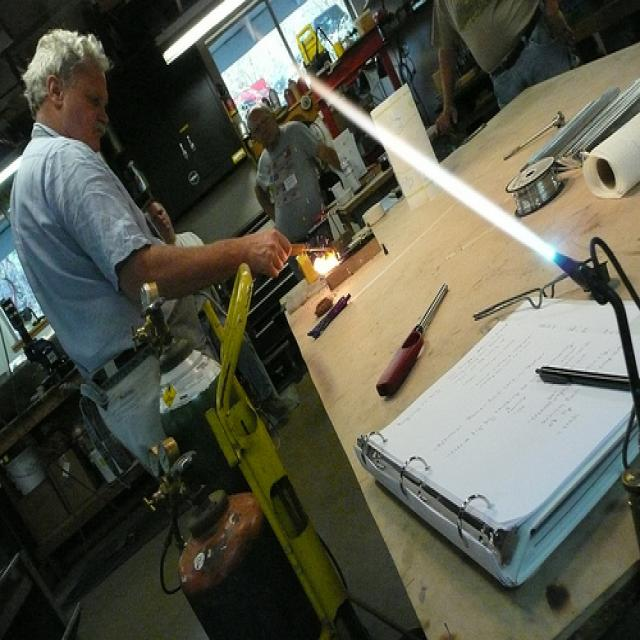screw_driver: (376, 285, 448, 396)
